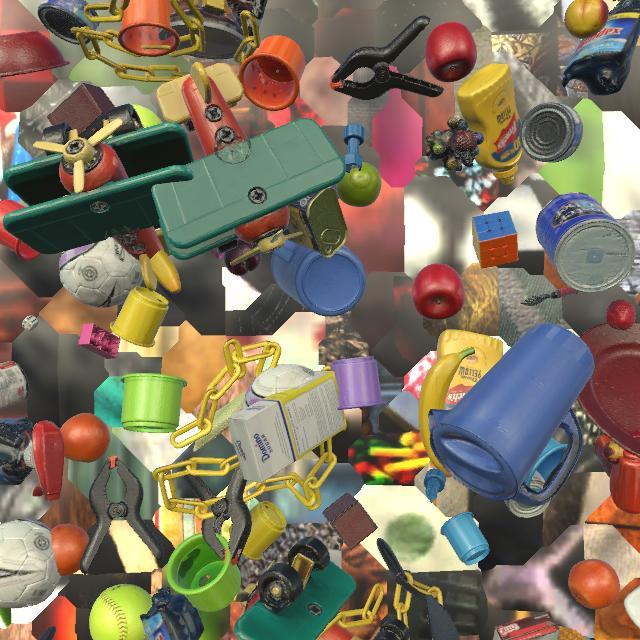ycb_002_master_chef_can: (536, 192, 636, 293)
ycb_004_sugar_box: (228, 370, 346, 483)
ycb_005_tomato_soup_can: (505, 470, 551, 518), (0, 361, 29, 410), (618, 0, 621, 2)
ycb_006_mustard_bottle: (457, 63, 523, 185), (437, 329, 504, 410)
ycb_007_tuna_fish_can: (519, 102, 583, 163), (38, 0, 100, 45)
ycb_008_pudding_box: (493, 611, 560, 640)
ycb_010_potted_meat_can: (284, 187, 348, 258)
ycb_011_banana: (418, 347, 475, 477), (150, 249, 181, 294)
ycb_012_strawberry: (605, 300, 636, 330)
ycb_013_apple: (425, 22, 477, 83), (412, 263, 465, 320)
ycb_015_peach: (564, 0, 609, 39)
ycb_016_pear: (336, 162, 382, 207)
ycb_017_orange: (568, 559, 620, 609), (60, 413, 110, 463), (51, 524, 89, 576)
ycb_018_plum: (224, 239, 261, 276)
